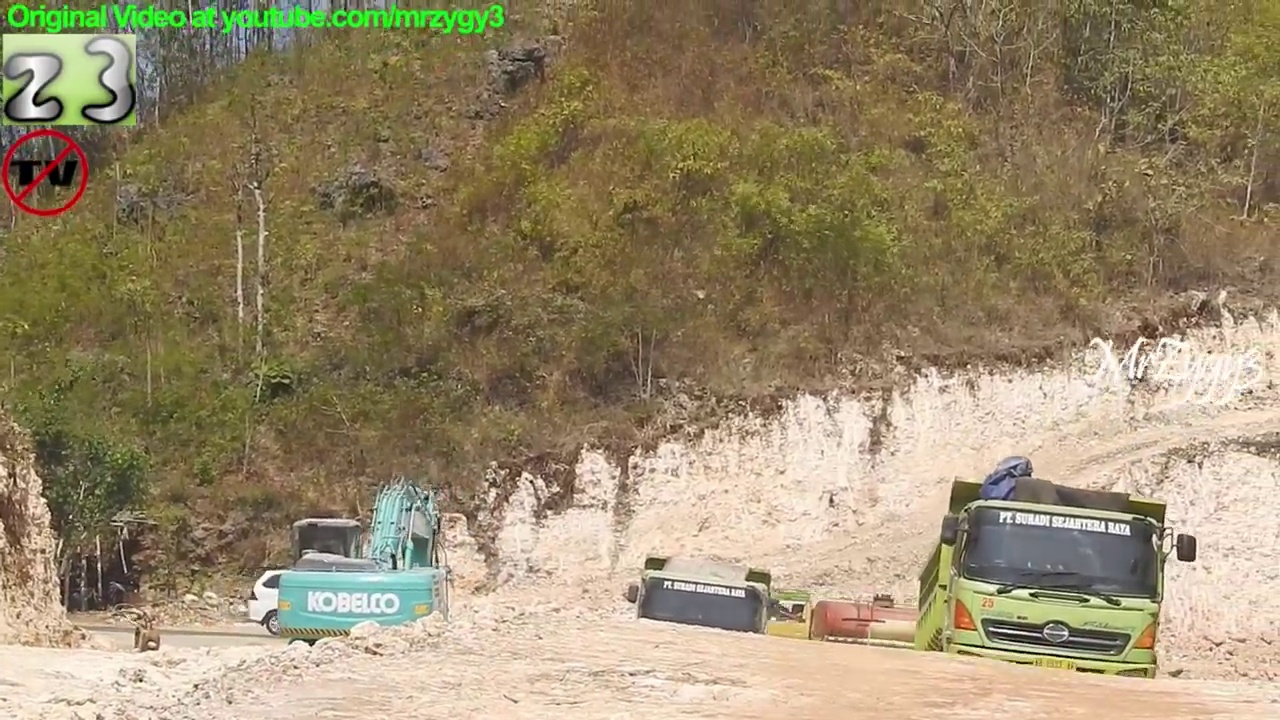excavator: (271, 471, 457, 674)
truck: (910, 469, 1205, 717), (620, 548, 784, 705), (746, 581, 1005, 676)
